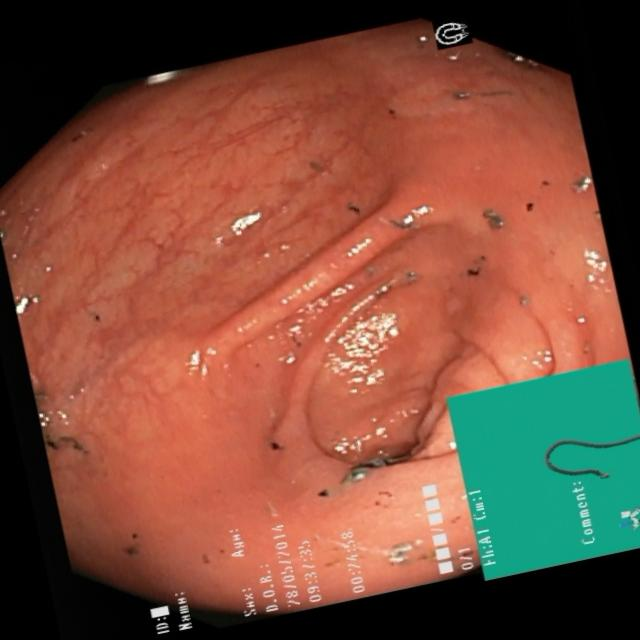normal-cecum: (31, 367, 96, 466), (302, 447, 395, 505), (395, 191, 443, 237), (555, 164, 589, 201), (471, 200, 506, 235)
